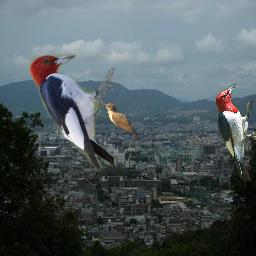Cuckoo: (102, 103, 140, 141)
Woodpecker: (27, 50, 120, 172), (215, 83, 256, 181)
